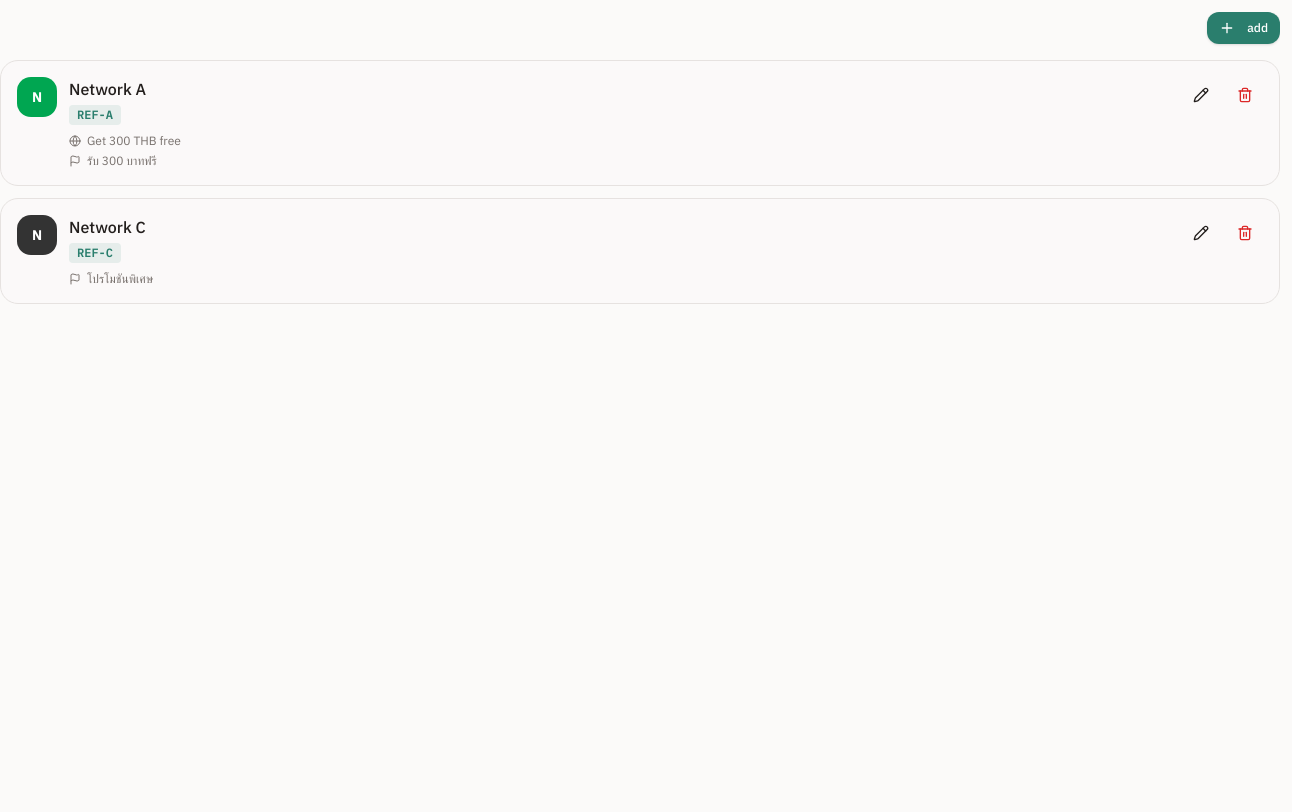
Scenario: ReferralCodesTable › opens form with data when edit is clicked
Expected: the text "REF-A" is shown, 69,105 -> 121,125
// Find the edit button (the one with Pencil icon, not Plus or Trash)
What coordinates should you click on to do the following:
click the 2nd button
I would click on:
 (1201, 95)
Its box is 1183,77 -> 1219,113.
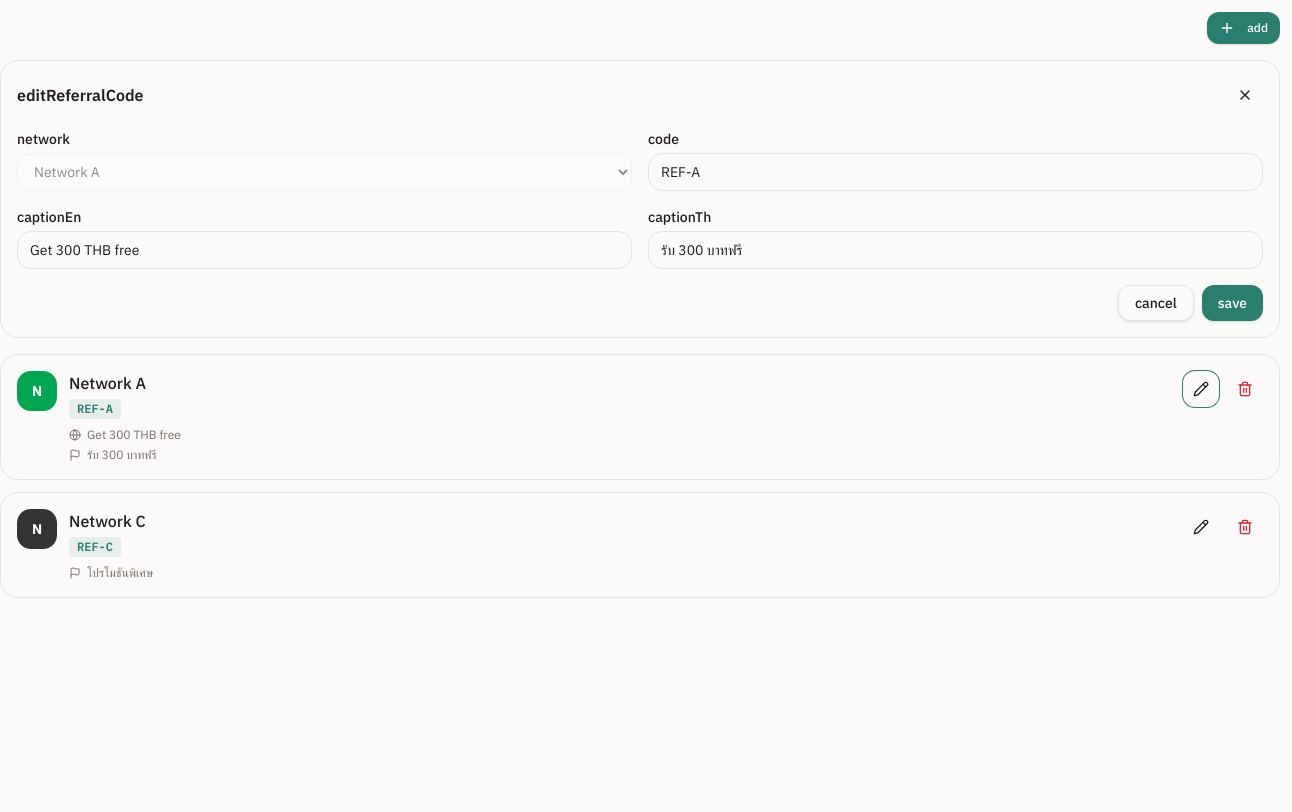
Now the heading "editReferralCode" is shown, box 17,83 -> 144,107
